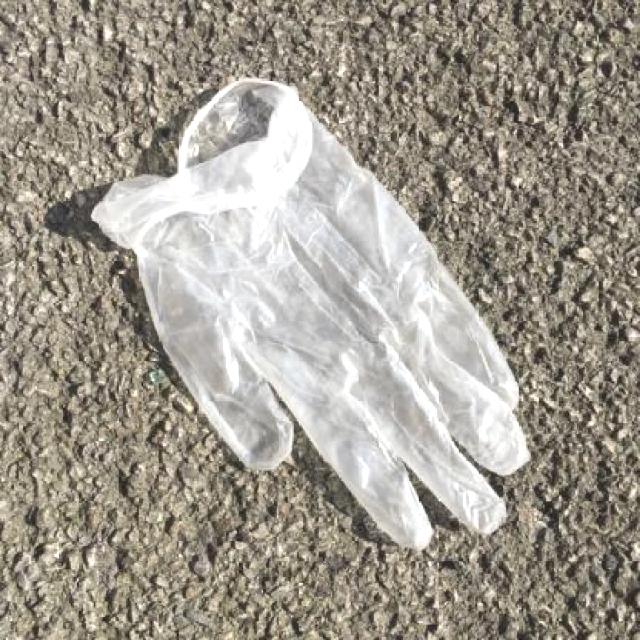glove: (91, 73, 532, 570)
